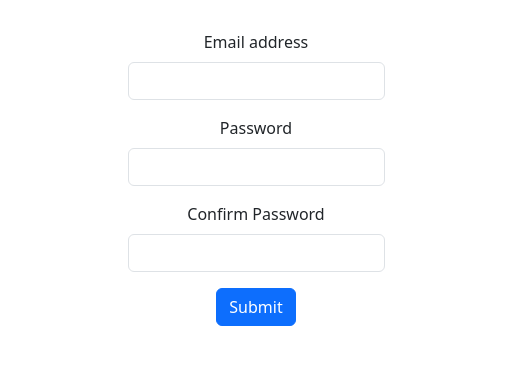
Test: APP › Error handling › should show password error message on invalid password
Expected: the text "The password you entered should contain 5 or more characters." is not shown
Type "selena@gmail.com" into the field labelled "Email address" at (256, 81), box [128, 62, 384, 100]
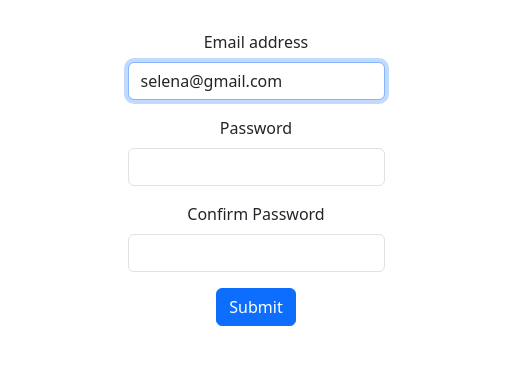
Type "12" into the password field labelled "Password" at (256, 167), box [128, 148, 384, 186]
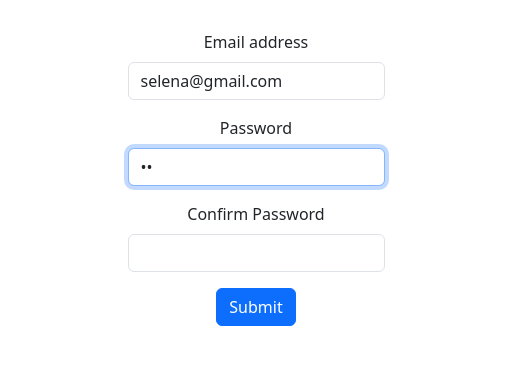
Click the button "Submit" at (256, 307), box [216, 288, 296, 326]
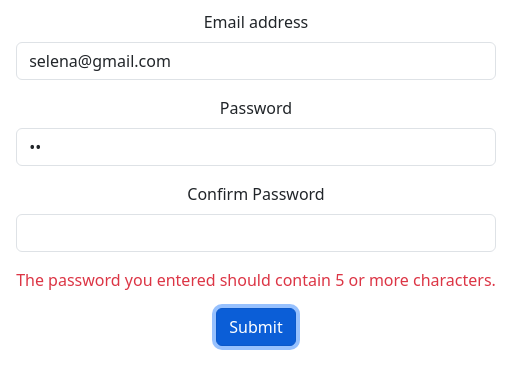
Expected: the text "The password you entered should contain 5 or more characters." is shown, [16, 268, 496, 292]
